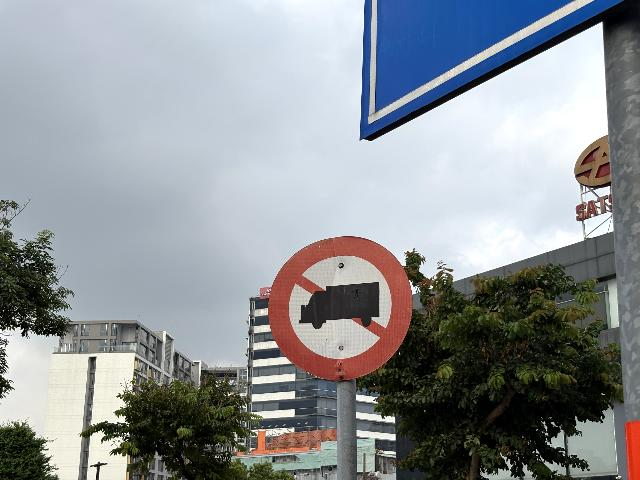cam-xe-tai: (269, 236, 413, 379)
